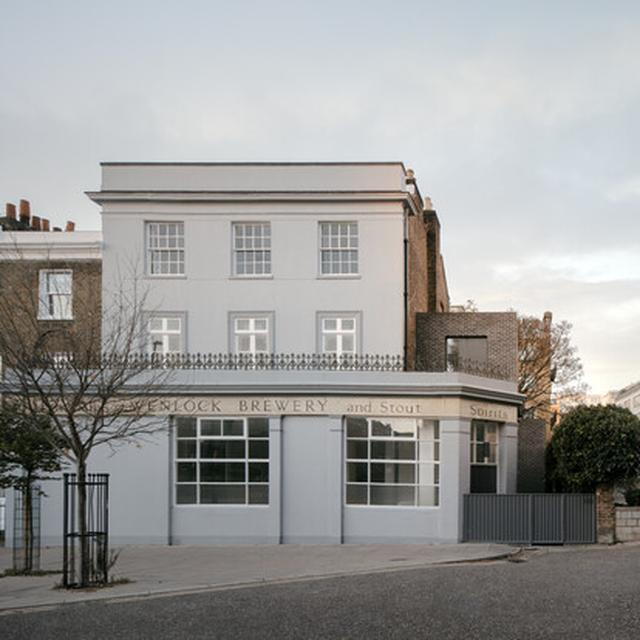building: (6, 155, 549, 545)
